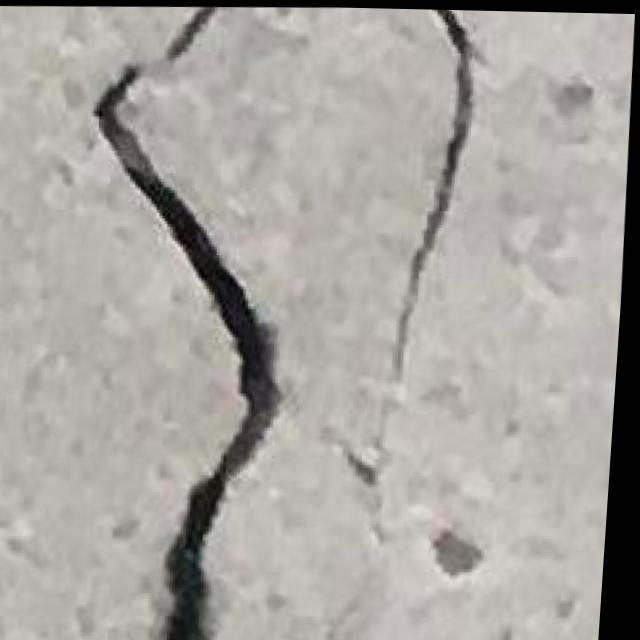Crack: (62, 5, 333, 640), (340, 6, 512, 575)
